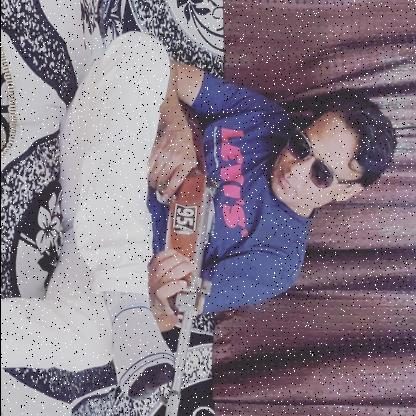rifle: (154, 98, 218, 416)
